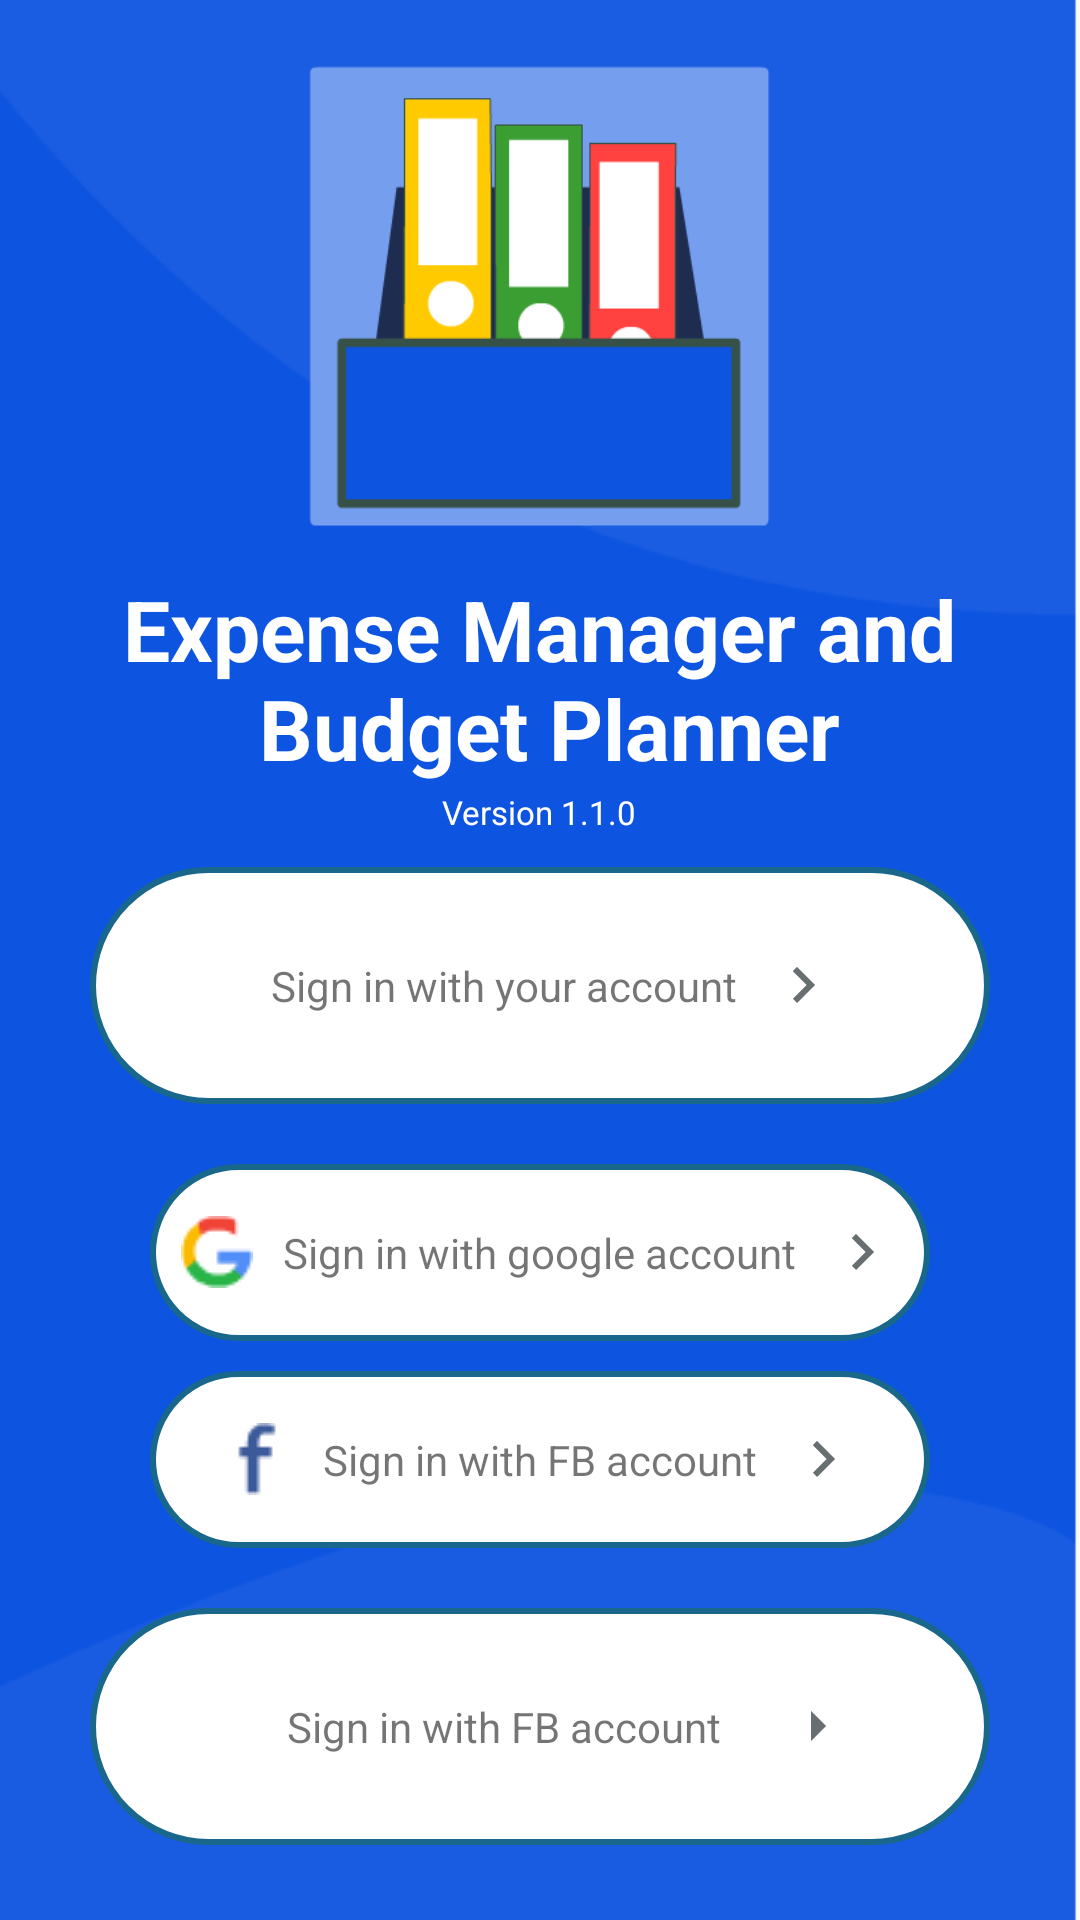

Locate icon controls on the screen. Image size 1080x1920, boxes as rect(x1, y1, x2, y2).
arrow right: rect(811, 1711, 826, 1741)
keyboard arrow right: rect(793, 967, 815, 1003), rect(852, 1234, 874, 1270), rect(813, 1441, 835, 1477)
